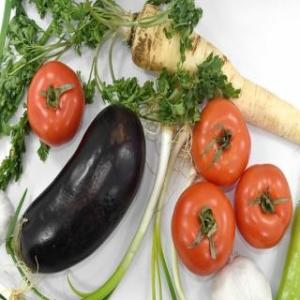eggplant: (9, 104, 148, 276)
garlic: (210, 250, 274, 300), (0, 186, 18, 246)
tomato: (168, 180, 236, 276), (186, 94, 254, 188), (233, 161, 293, 251), (27, 64, 80, 146)
